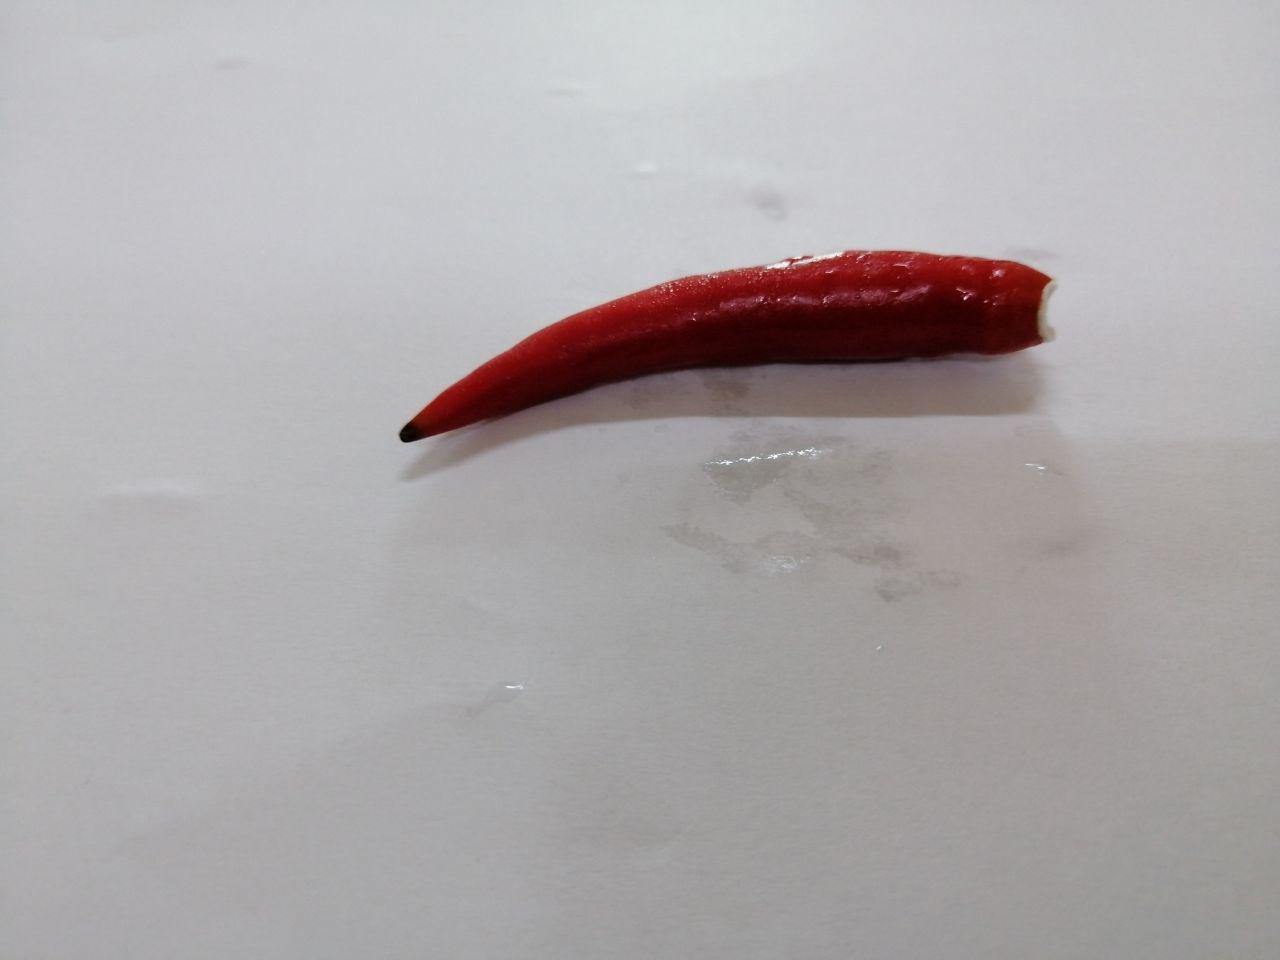lada merah: (359, 231, 1075, 456)
